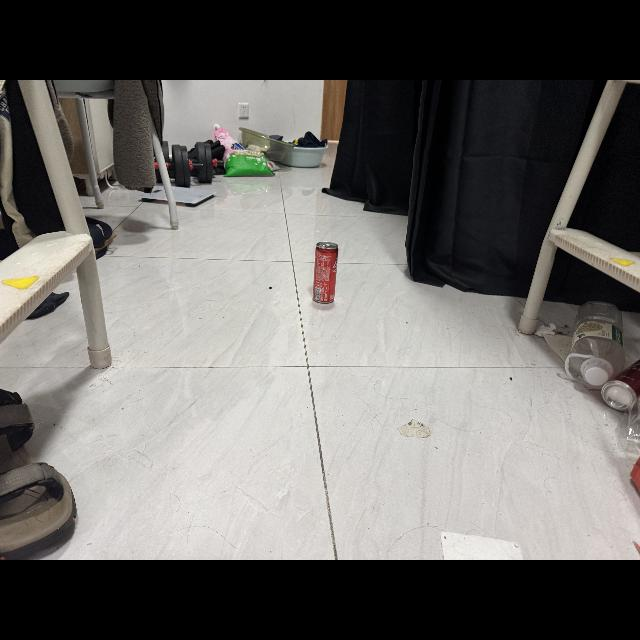Cola: (310, 238, 340, 306)
